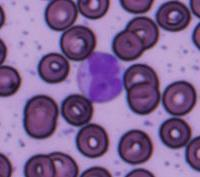M: (76, 50, 125, 104)
